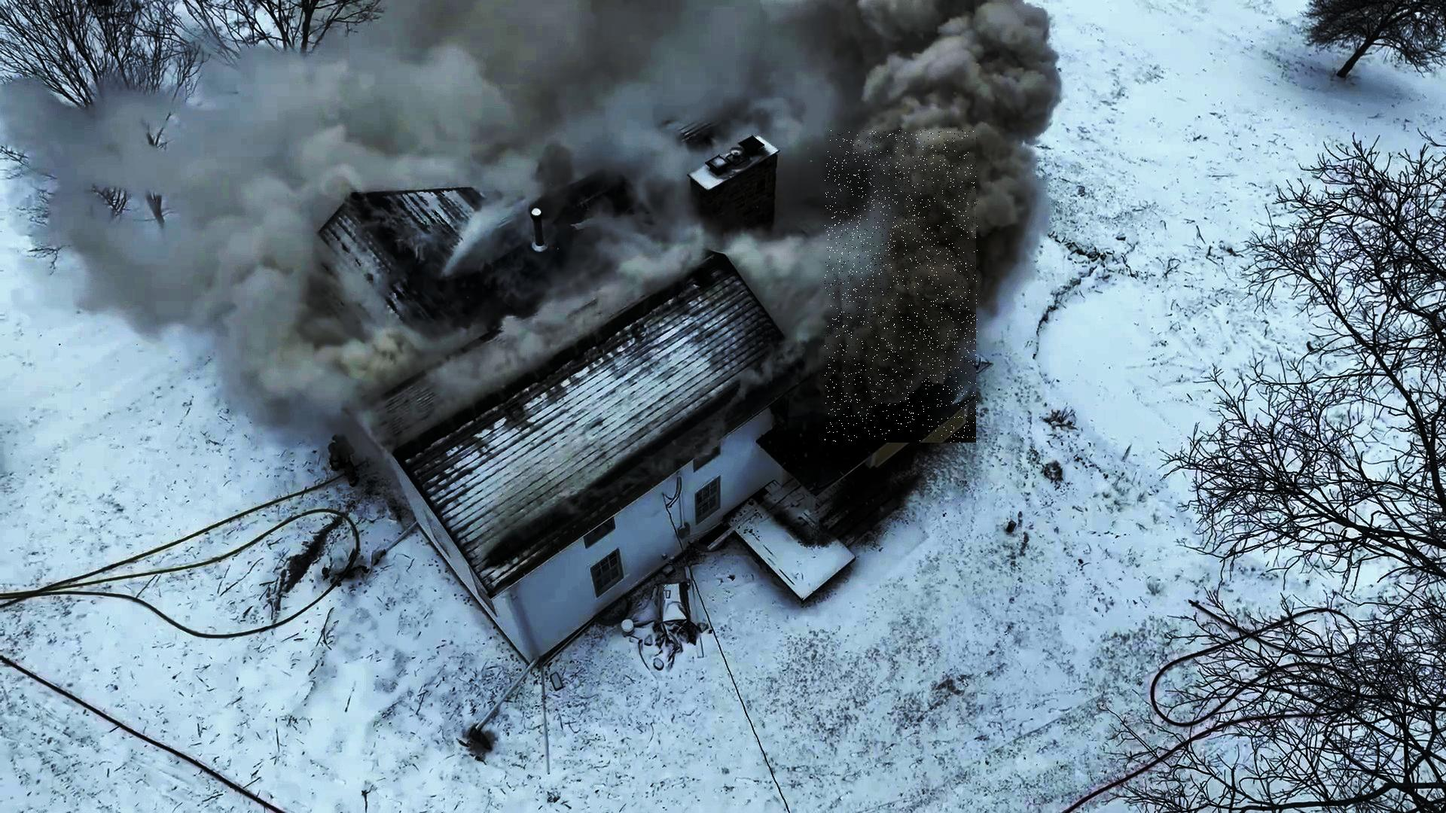smoke: (825, 130, 978, 443)
